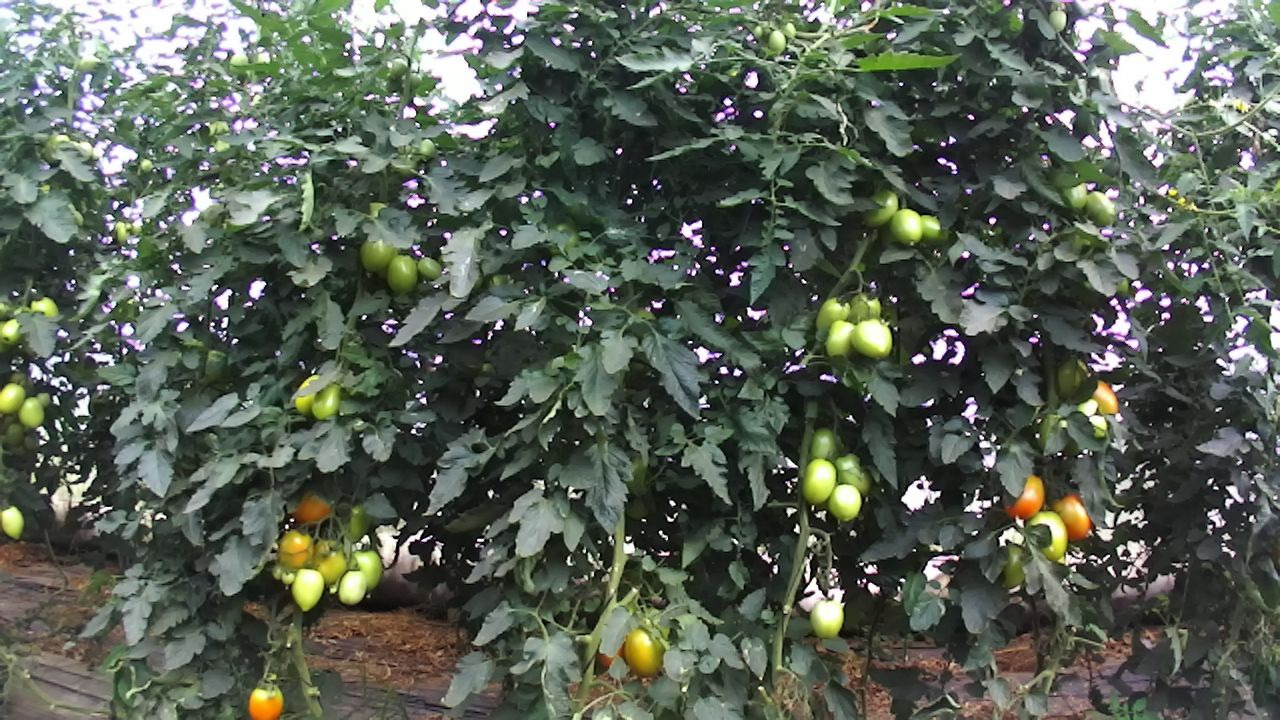tomato: (1024, 507, 1071, 564), (1049, 491, 1097, 545), (621, 624, 665, 679), (1002, 467, 1046, 521), (849, 314, 895, 362), (799, 455, 838, 508), (833, 449, 874, 499), (311, 535, 348, 587), (287, 565, 327, 613), (275, 526, 316, 572), (806, 595, 846, 642), (812, 295, 852, 338), (857, 188, 898, 229), (825, 480, 864, 523), (348, 547, 383, 594), (887, 206, 925, 249), (356, 235, 399, 273), (247, 681, 288, 720), (384, 252, 419, 296), (805, 425, 845, 461), (823, 318, 858, 359), (1085, 376, 1120, 417), (1081, 187, 1116, 227), (309, 380, 342, 422), (336, 566, 369, 608), (17, 394, 47, 433), (0, 378, 28, 417), (918, 212, 950, 245), (0, 502, 26, 542), (413, 254, 442, 281), (0, 314, 24, 346), (35, 389, 51, 410)
